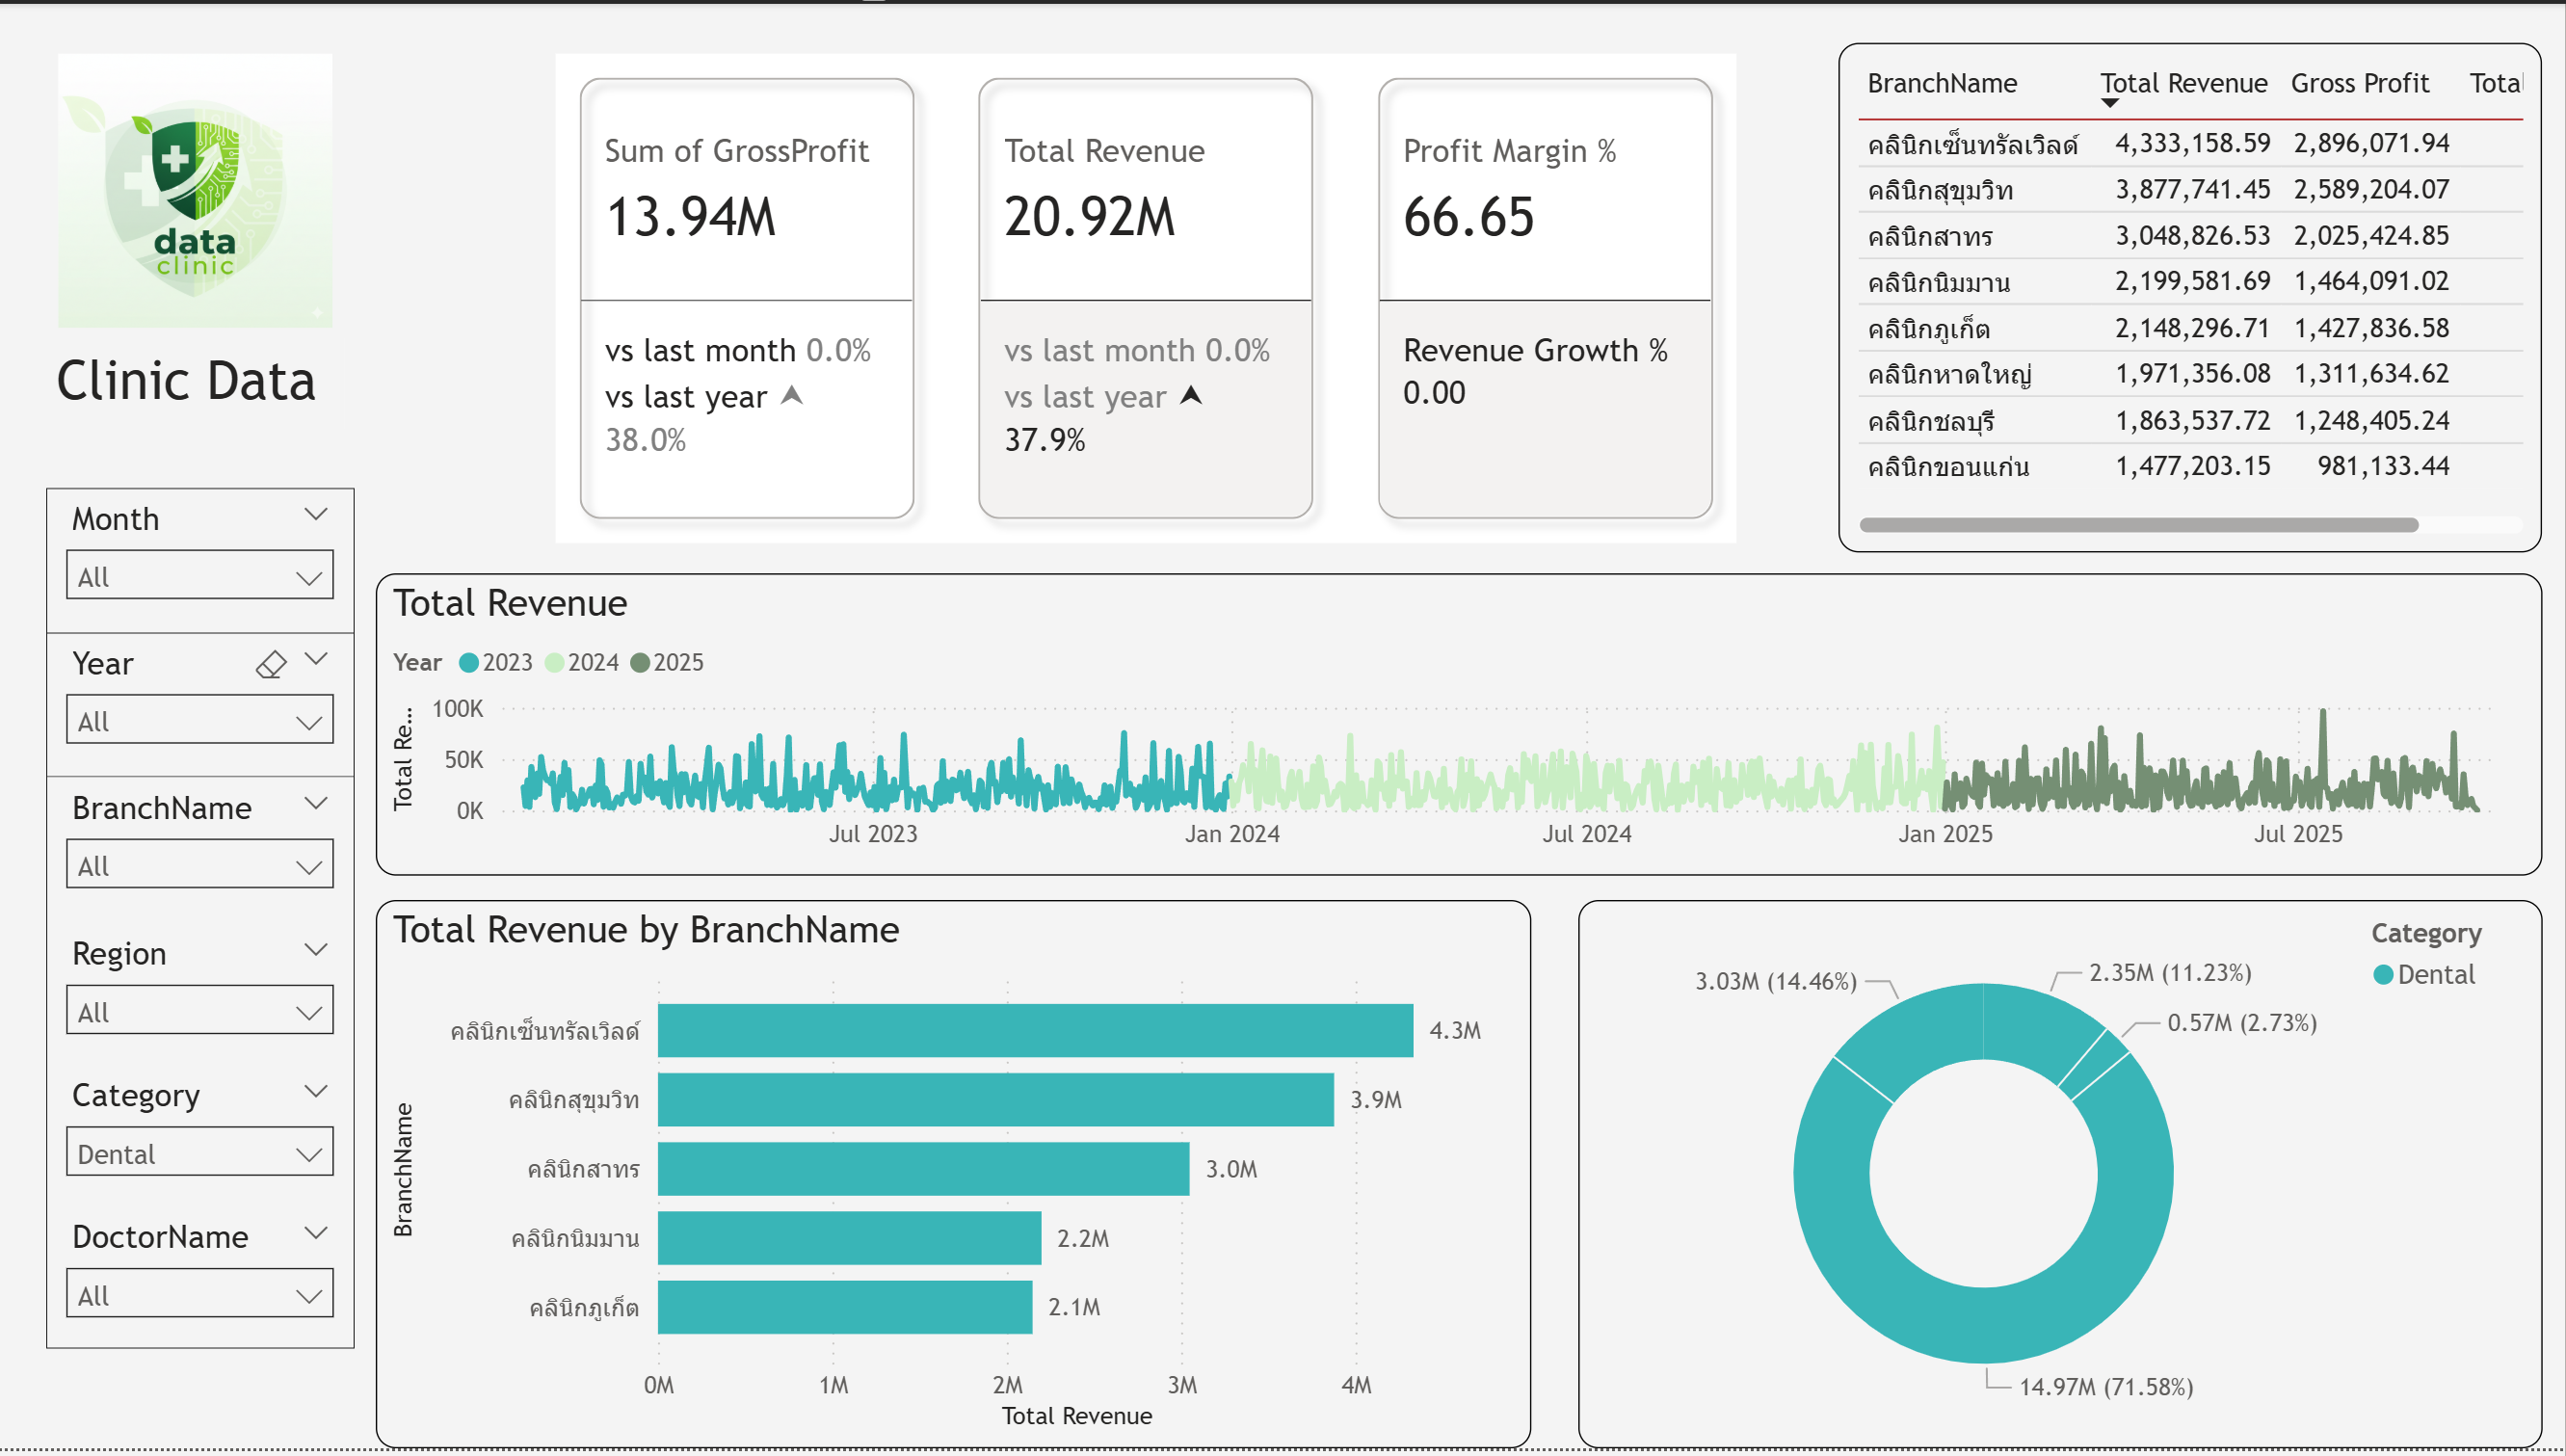

Layout of this report page (visuals, bound fields, positions):
{"tool":"powerbi","page":{"name":"KPI","canvas":[1280,720],"ordinal":0},"visuals":[{"type":"slicer","fields":{"Values":["DimDate.Month"]},"box":[24.5,241.4,153.5,72],"z":0,"group":"g1"},{"type":"cardVisual","fields":{"Data":["FactBillingDetail.GrossProfit","FactBillingDetail.Total Revenue","FactBillingDetail.Profit Margin %"]},"box":[273.1,19.5,599.4,254.3],"z":0},{"type":"slicer","fields":{"Values":["DimDate.Year"]},"box":[24.5,313.4,153.5,72],"z":1000,"group":"g1"},{"type":"textbox","box":[24.5,166.4,148.4,45.4],"z":1000},{"type":"tableEx","fields":{"Values":["DimBranch.BranchName","FactBillingDetail.Total Revenue","FactBillingDetail.Gross Profit","FactBillingDetail.Total Patients"]},"box":[917.9,19.5,350.9,254.3],"z":2000},{"type":"slicer","fields":{"Values":["DimBranch.BranchName"]},"box":[24.5,385.5,153.5,72.8],"z":2000,"group":"g1"},{"type":"slicer","fields":{"Values":["DimBranch.Region"]},"box":[24.5,458.3,153.5,70.6],"z":3000,"group":"g1"},{"type":"lineChart","title":"Total Revenue","fields":{"Y":["FactBillingDetail.Total Revenue"],"Series":["DimDate.Year"],"Category":["DimDate.Date"]},"box":[188.9,284.2,1079.8,150.5],"z":3000},{"type":"slicer","fields":{"Values":["DimService.Category"]},"box":[24.5,528.9,153.5,70.6],"z":4000,"group":"g1"},{"type":"barChart","fields":{"Category":["DimBranch.BranchName"],"Y":["FactBillingDetail.Total Revenue"]},"box":[188.9,447,576,273.4],"z":4000},{"type":"slicer","fields":{"Values":["DimDoctor.DoctorName"]},"box":[24.5,599.5,153.5,70.6],"z":5000,"group":"g1"},{"type":"donutChart","fields":{"Category":["DimService.Category"],"Y":["FactBillingDetail.Total Revenue"],"Series":["DimService.ServiceName"]},"box":[788,447,480.8,273.4],"z":5000},{"type":"image","box":[24.5,19.5,148.4,147],"z":6000},{"type":"group","id":"g1","title":"Group 1","box":[24.5,241.4,153.5,428.7],"z":6001}]}

Visuals, with their boxes in screenshot pixels (x1, y1, x2, y2), scaled from the page's 1280x720 canvas onto the 2566x1456 screenshot:
slicer - DimDate.Month: 49, 489, 357, 634
cardVisual - FactBillingDetail.GrossProfit x FactBillingDetail.Total Revenue: 547, 40, 1749, 554
slicer - DimDate.Year: 49, 634, 357, 780
textbox: 49, 336, 347, 428
tableEx - DimBranch.BranchName x FactBillingDetail.Total Revenue: 1840, 40, 2544, 554
slicer - DimBranch.BranchName: 49, 780, 357, 927
slicer - DimBranch.Region: 49, 927, 357, 1070
"Total Revenue" lineChart: 379, 574, 2543, 879
slicer - DimService.Category: 49, 1070, 357, 1212
barChart - DimBranch.BranchName x FactBillingDetail.Total Revenue: 379, 904, 1533, 1455
slicer - DimDoctor.DoctorName: 49, 1212, 357, 1355
donutChart - DimService.Category x FactBillingDetail.Total Revenue: 1579, 904, 2544, 1455
image: 49, 40, 347, 336
"Group 1" group: 49, 489, 357, 1355
